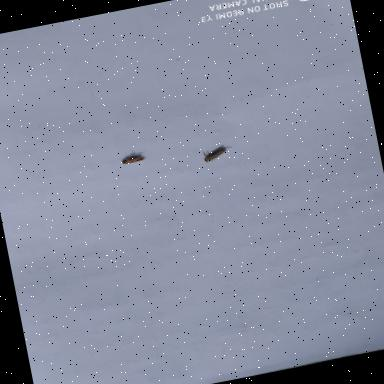pbw: (200, 140, 236, 164), (120, 148, 150, 167)
